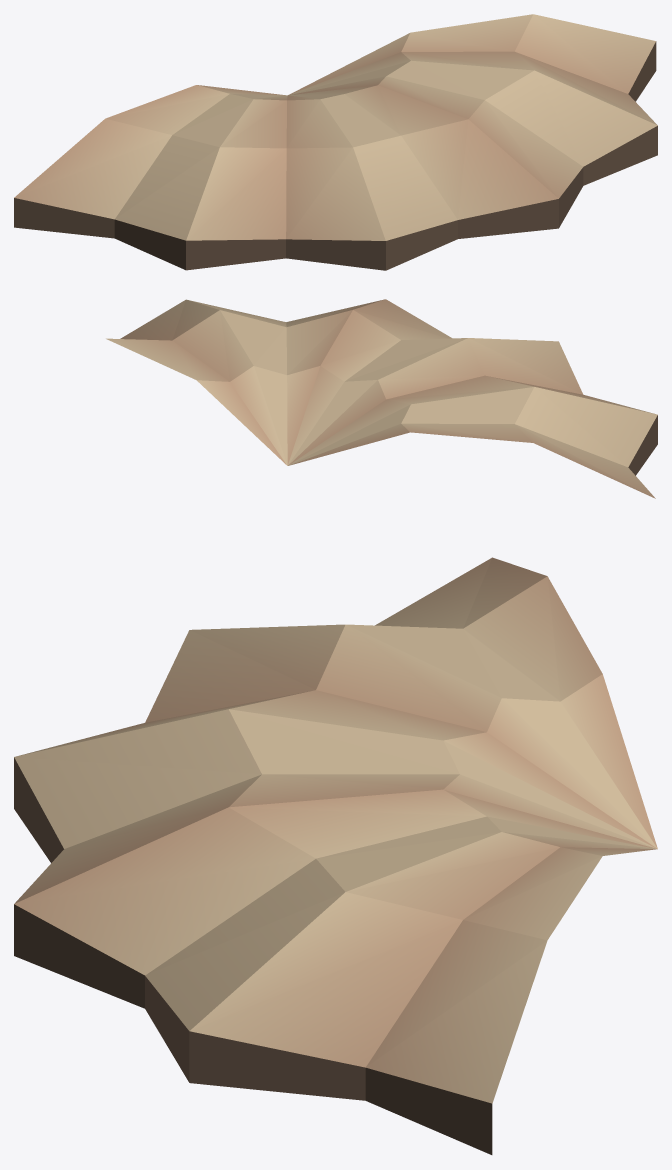
The model's file is beach-shell-fan-v1.glb.
3 renders of one model, top to bottom at view 1: azimuth 30°, elevation 25°; view 2: azimuth 150°, elevation 25°; view 3: azimuth 270°, elevation 25°, orthographic. The views are drawn at different scales.
Parts seen in each view (by area): view 1: beach-shell-fan-v1; view 2: beach-shell-fan-v1; view 3: beach-shell-fan-v1.
Part boxes in pixels (<box>): beach-shell-fan-v1: <box>14,14,657,270</box>; beach-shell-fan-v1: <box>106,299,657,498</box>; beach-shell-fan-v1: <box>14,557,657,1154</box>.
Size of the model in its own units: 0.8815 by 0.0934 by 0.4392.
